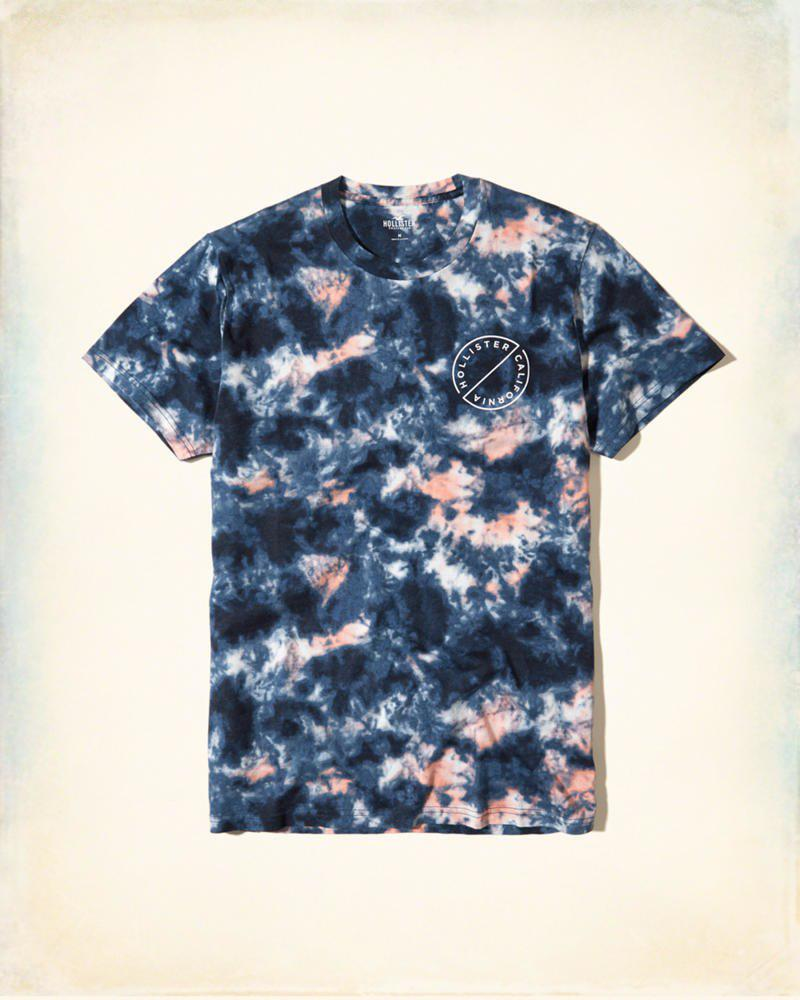teeshirt: (65, 151, 742, 869)
